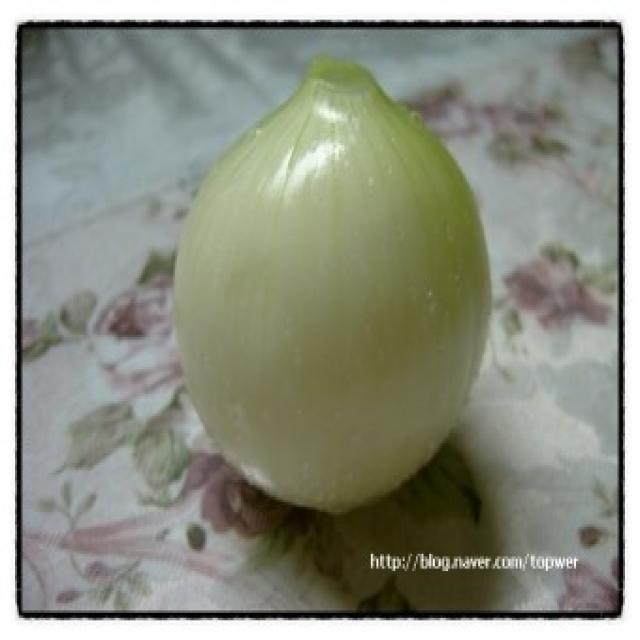onion: (154, 39, 509, 542)
